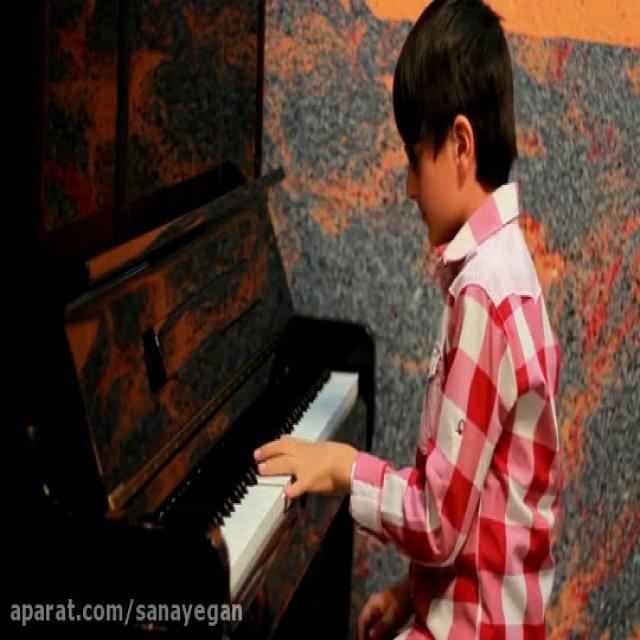Piano: (140, 334, 370, 612)
